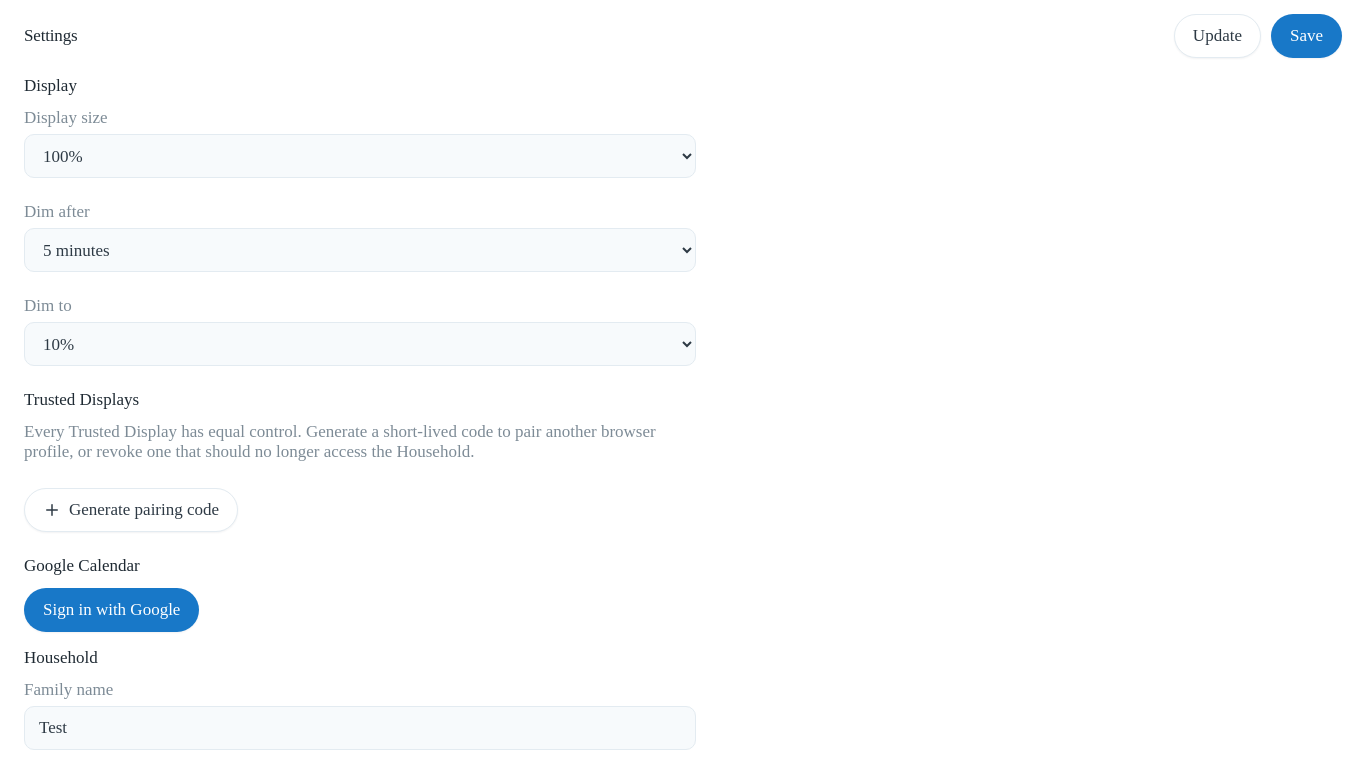
Scenario: Settings Member Color and retirement › stale roster saves reject and reload through versioning
Replace the text in the field showing "Test" with "Nope". click: (360, 728)
box: top-left (24, 706), bottom-right (696, 750)
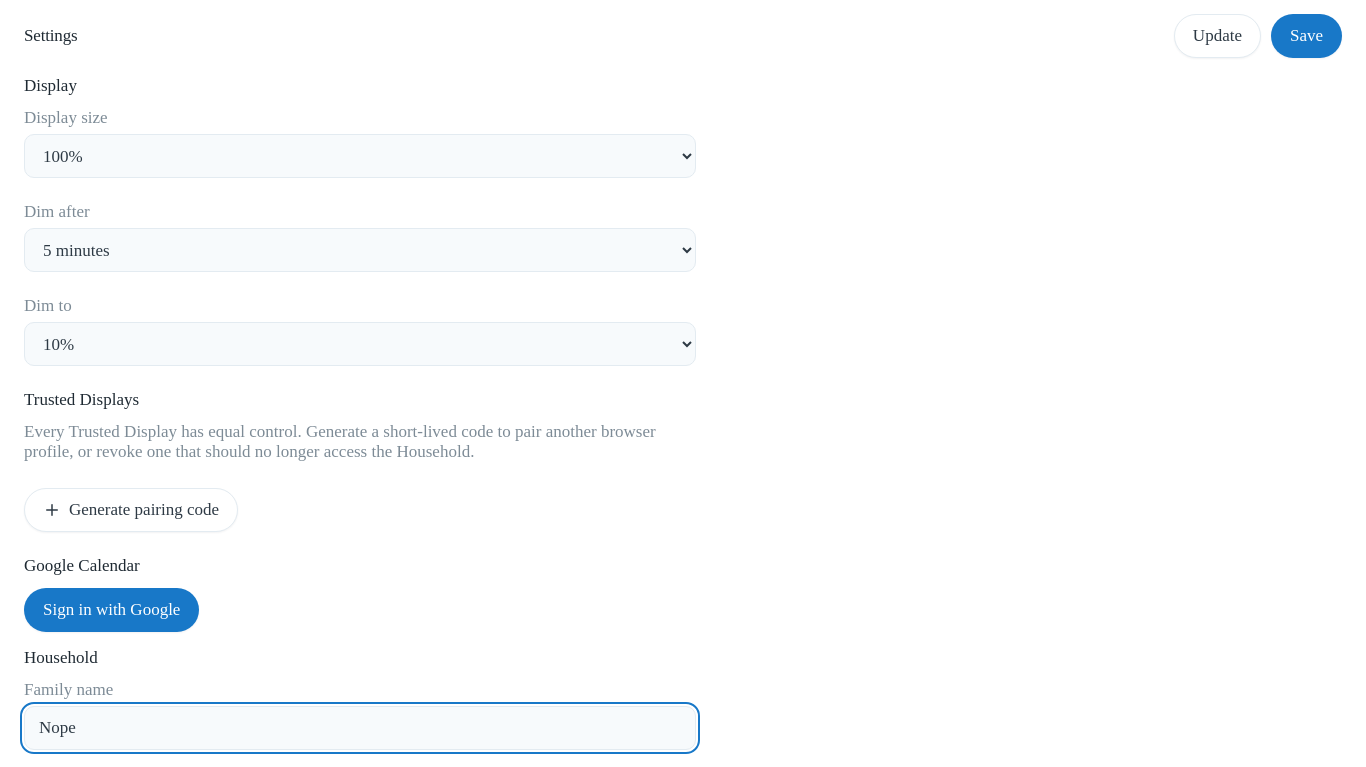
Click the button "Save". click: (1306, 36)
box: top-left (1271, 14), bottom-right (1342, 58)
(page scrolled)
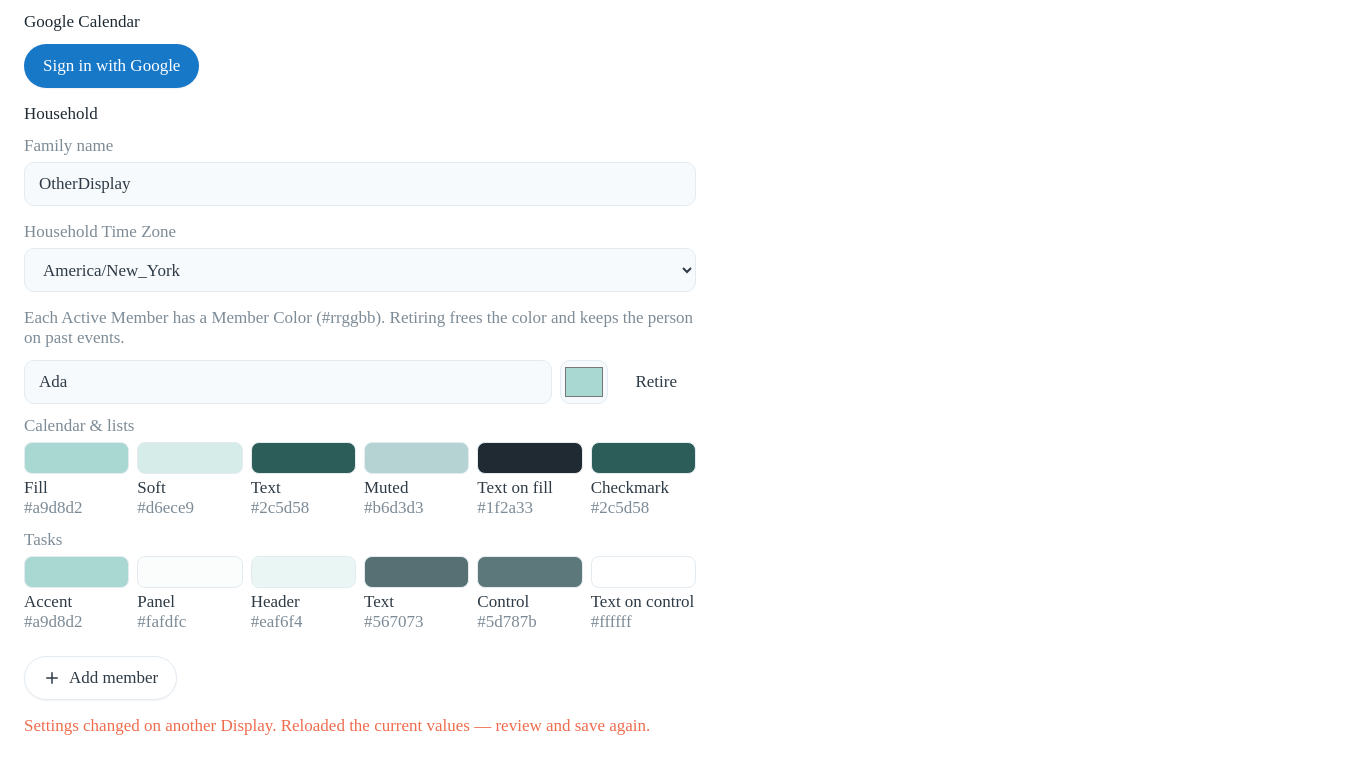
Expected: the field showing "OtherDisplay" is shown, top-left (24, 162), bottom-right (696, 206)
Expected: the text "Settings changed on another Display. Reloaded the current values — review and save again." is shown, top-left (24, 716), bottom-right (650, 735)
